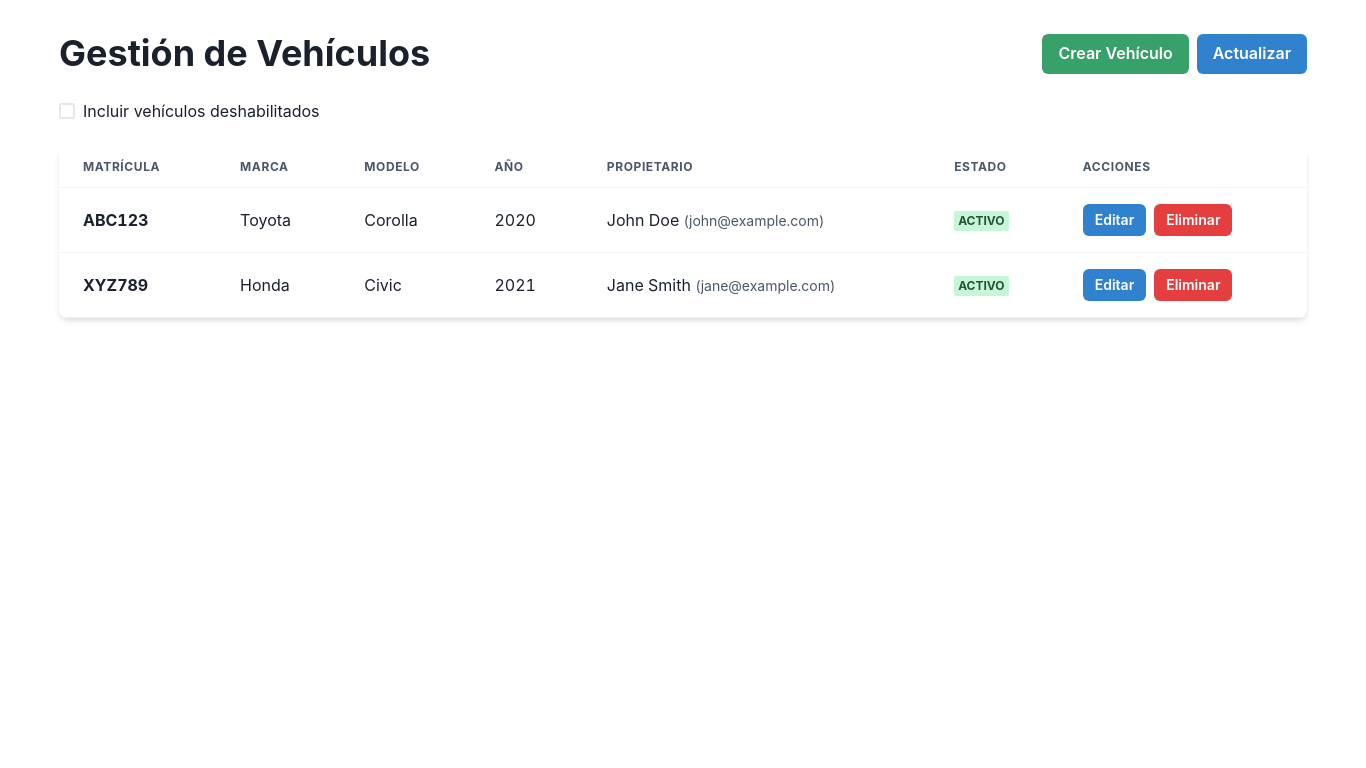
Scenario: VehicleManagementPage › as ADMIN › should show required client selector when creating vehicle as ADMIN
The width and height of the screenshot is (1366, 768).
Expected: the text "ABC123" is shown, x1=59 y1=188 x2=216 y2=253
Step 1. Click the button "Crear Vehículo" → (1116, 54), box x1=1042 y1=34 x2=1189 y2=74
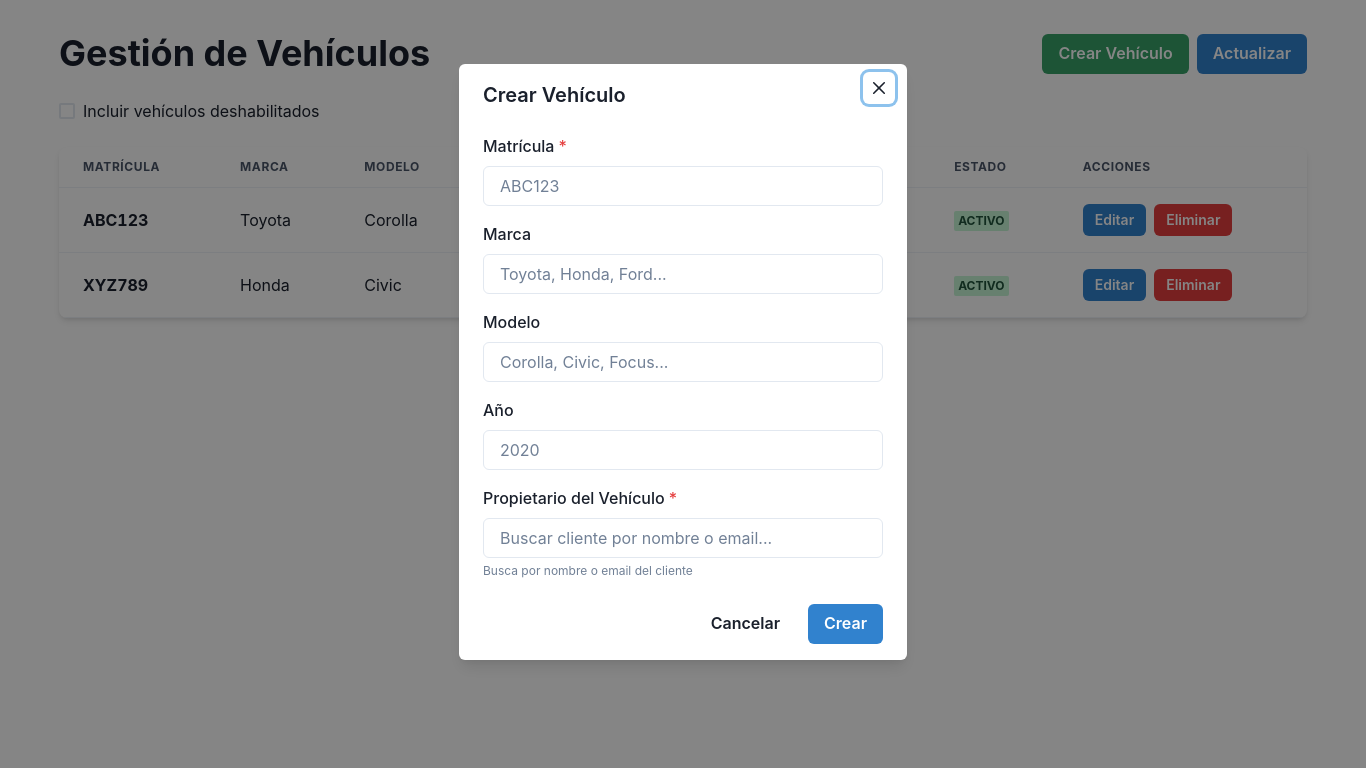
Result: the text "Propietario del Vehículo*" is shown at x1=483 y1=488 x2=677 y2=508
Result: the element that starts with "Propietario del Vehículo" shows "*" at x1=669 y1=488 x2=677 y2=508
